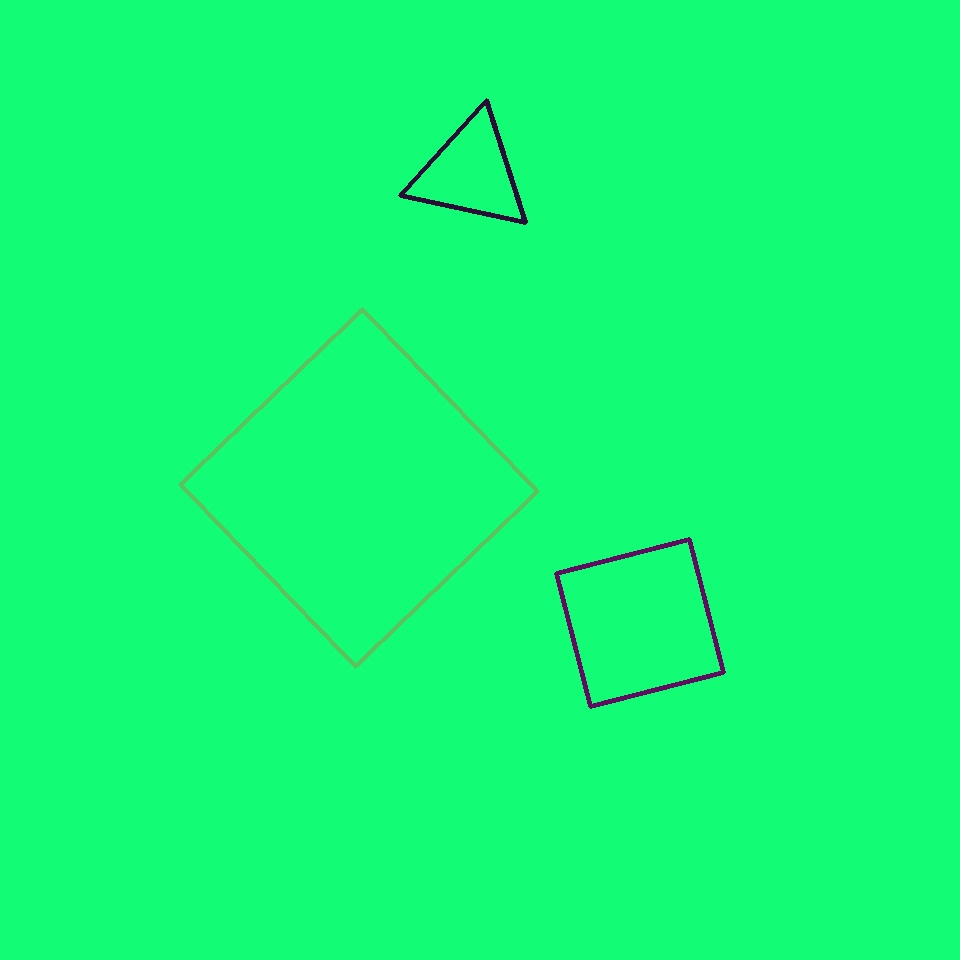circle: (408, 112, 534, 234)
square: (180, 310, 538, 666), (556, 540, 724, 706)
